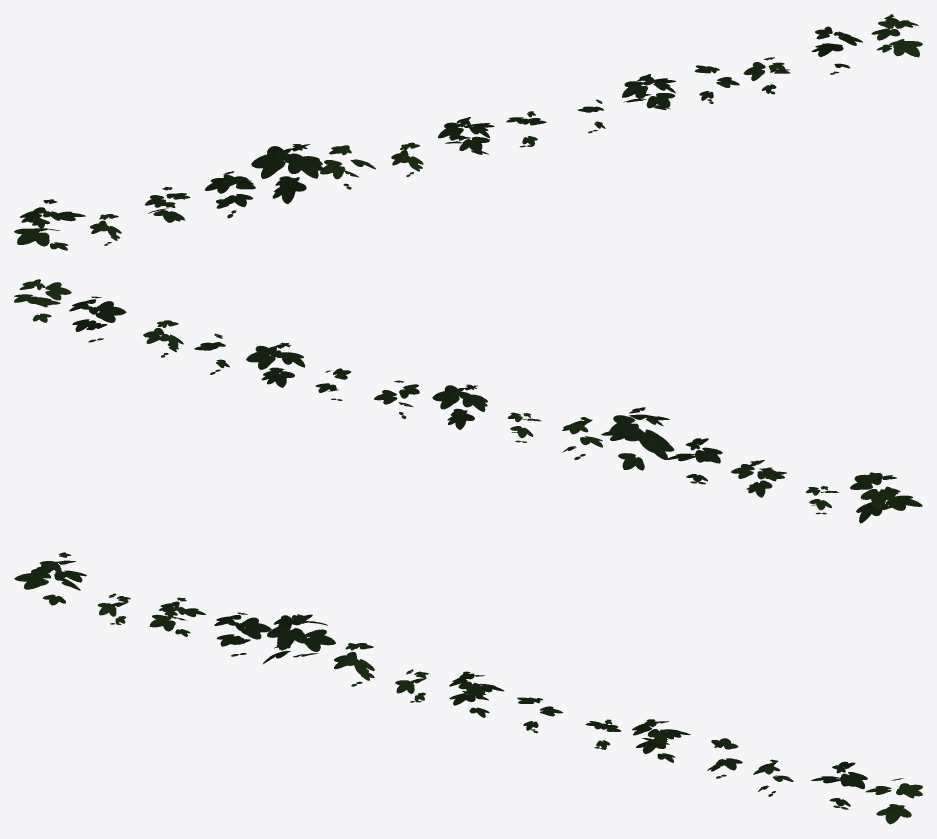
The model's file is ROW_13_SEG1_foliage.dae.
3 renders of one model, top to bottom at view 1: azimuth 30°, elevation 25°; view 2: azimuth 150°, elevation 25°; view 3: azimuth 330°, elevation 25°, orthographic.
Parts seen in each view (by area): view 1: ROW_13_SEG1_foliage; view 2: ROW_13_SEG1_foliage; view 3: ROW_13_SEG1_foliage.
Boxes of the visible parts, bbox=[...] form: ROW_13_SEG1_foliage: bbox=[14, 14, 922, 250]; ROW_13_SEG1_foliage: bbox=[14, 279, 922, 523]; ROW_13_SEG1_foliage: bbox=[14, 552, 922, 824].
Size of the model in its own units: 4.56 by 0.3331 by 0.3035.
